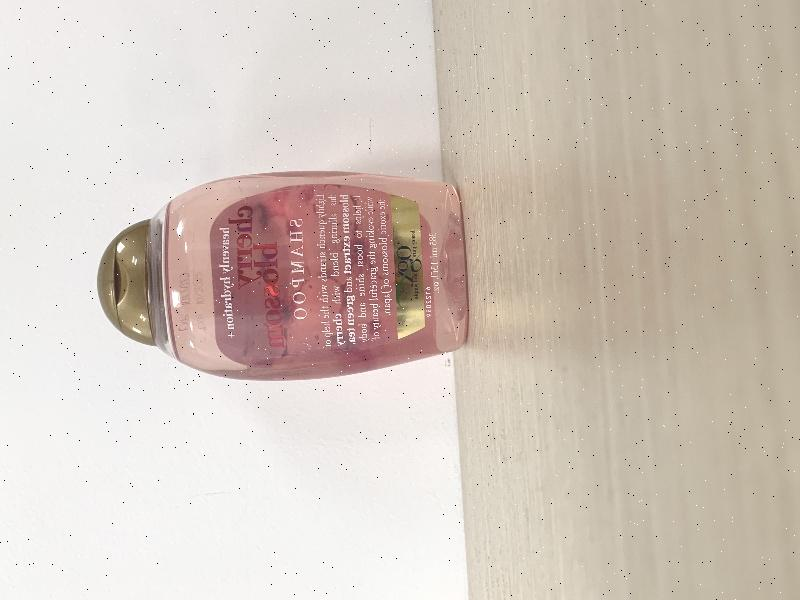CherryBlossom_Shampoo: (96, 170, 469, 382)
